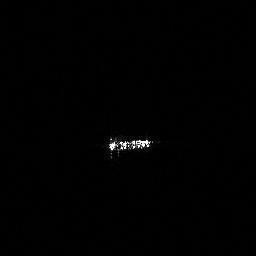ship: (98, 135, 160, 156)
